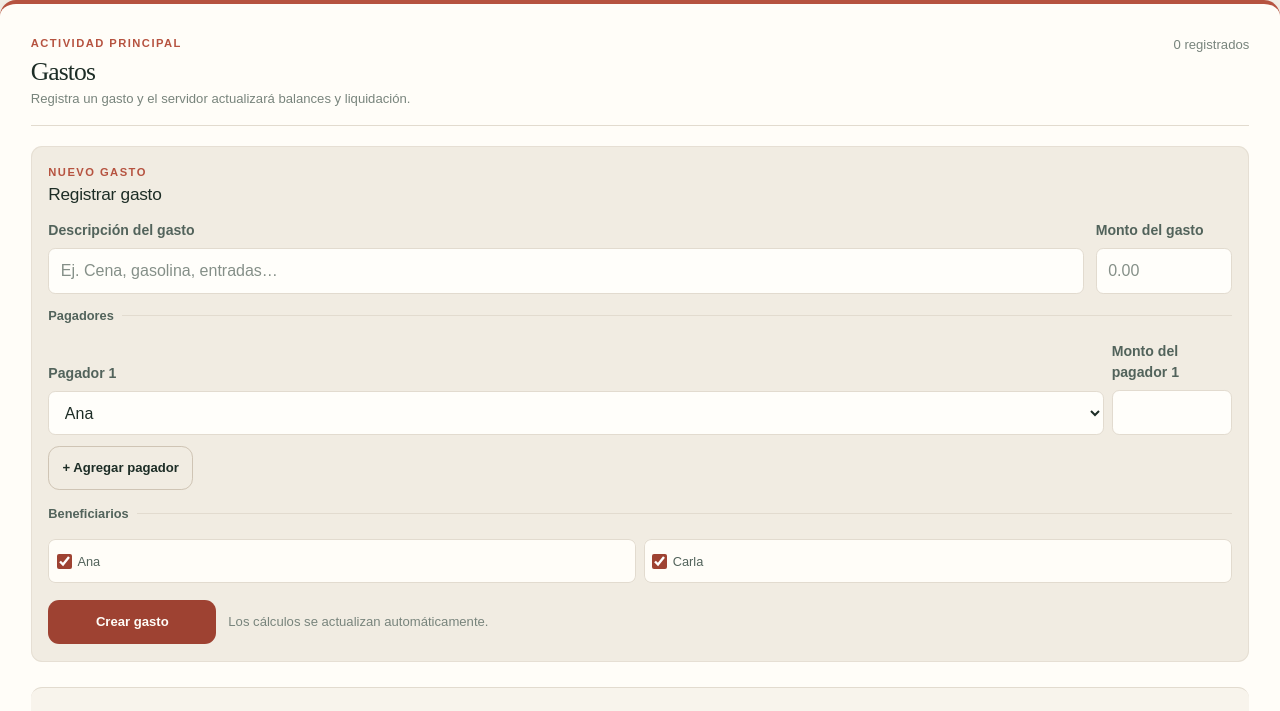
Test case: expenses panel › keeps an over-precise amount editable and does not mutate
Type "10.001" into the field labelled "Monto del gasto" at (1164, 271), box [1096,248,1232,294]
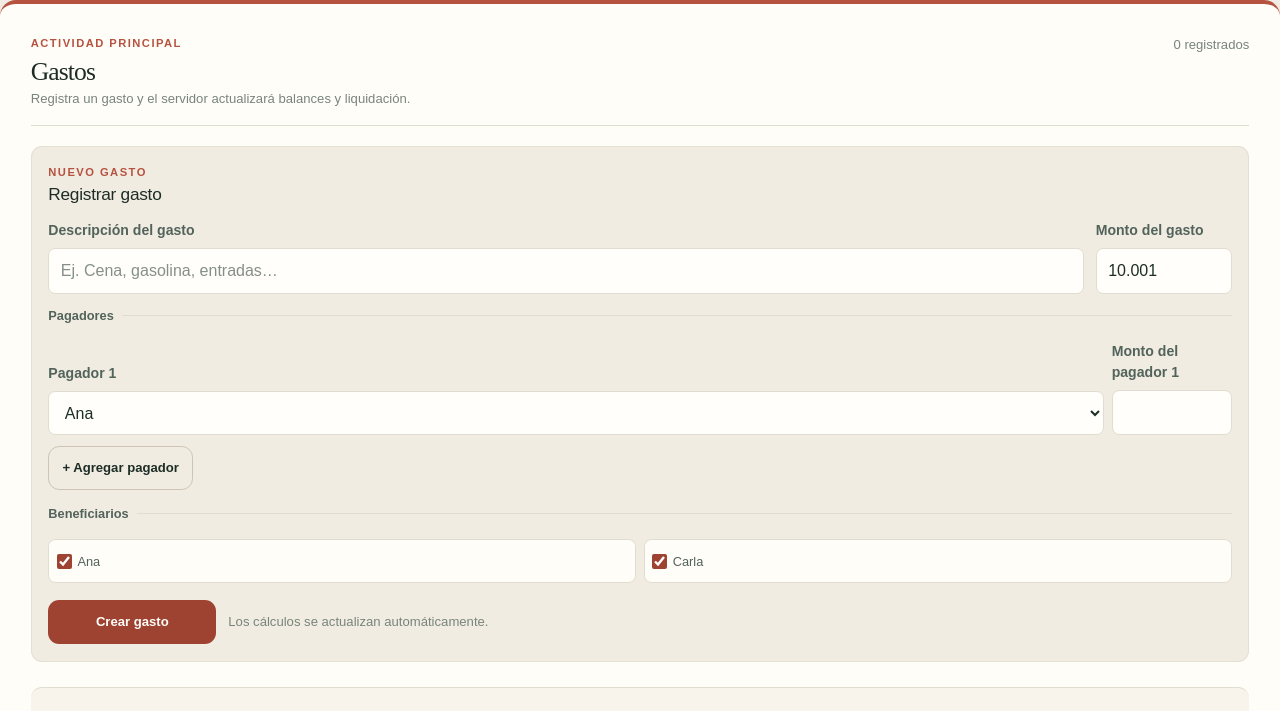
Click the button "Crear gasto" at (132, 622), box [48,600,216,644]
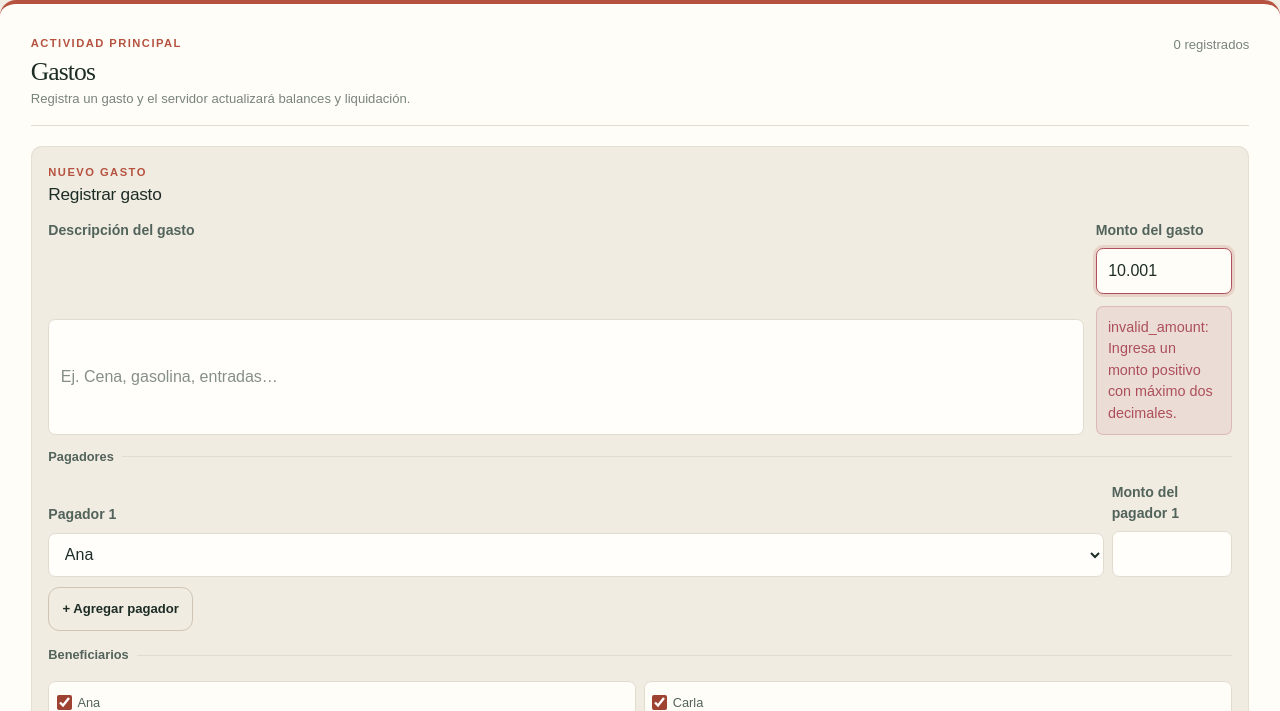
Result: the message shows "invalid_amount" at [1108,319,1213,421]
